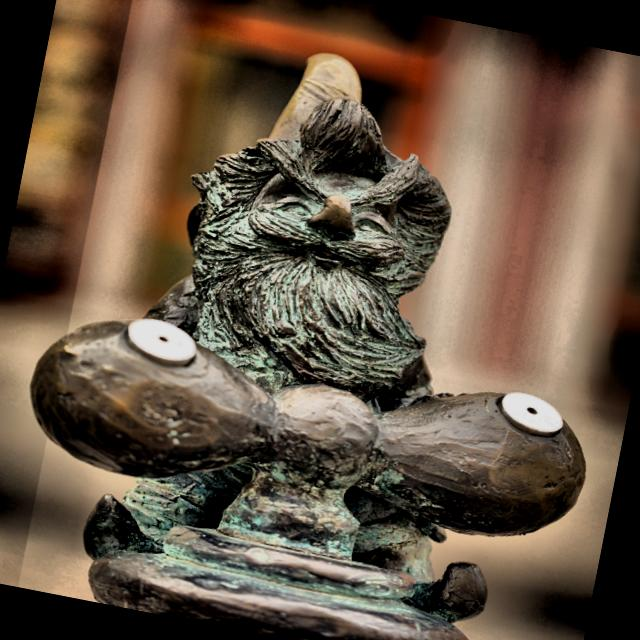Orzezwiacz: (29, 54, 586, 640)
